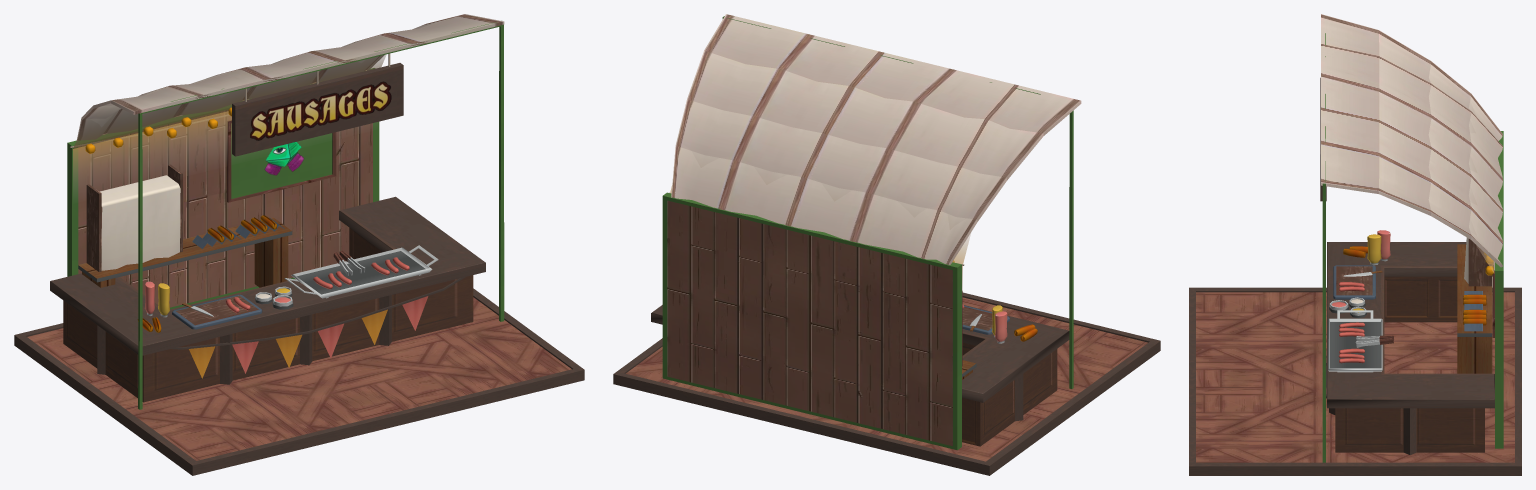
Rendered from pm-booth-food-02.glb.
3 views of the same model, side by side, from view 1: azimuth 30°, elevation 25°; view 2: azimuth 150°, elevation 25°; view 3: azimuth 270°, elevation 25° (orthographic). The views are drawn at different scales.
Parts seen in each view (by area): view 1: Booth_Food02; view 2: Booth_Food02; view 3: Booth_Food02.
Part boxes in pixels (box(x1,y1,x2,y2)): Booth_Food02: box(14, 14, 584, 475); Booth_Food02: box(613, 14, 1160, 475); Booth_Food02: box(1189, 14, 1521, 475).
Size of what is drawn, in the model's own units: 6.56 by 4.95 by 5.17.
9 materials, 9 textured.
